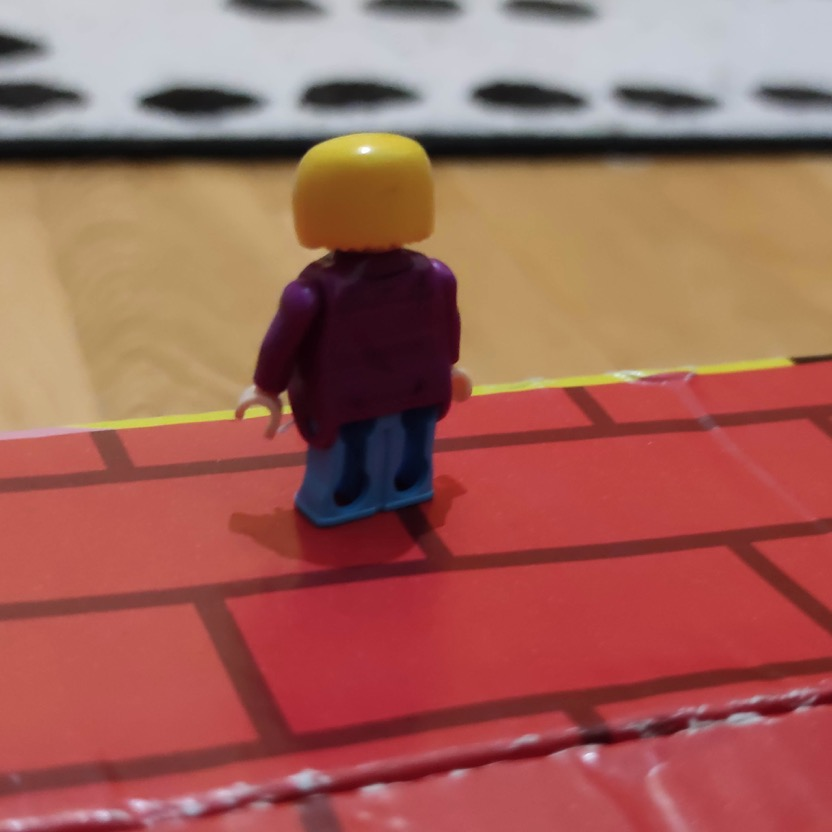lego: (236, 133, 475, 527)
